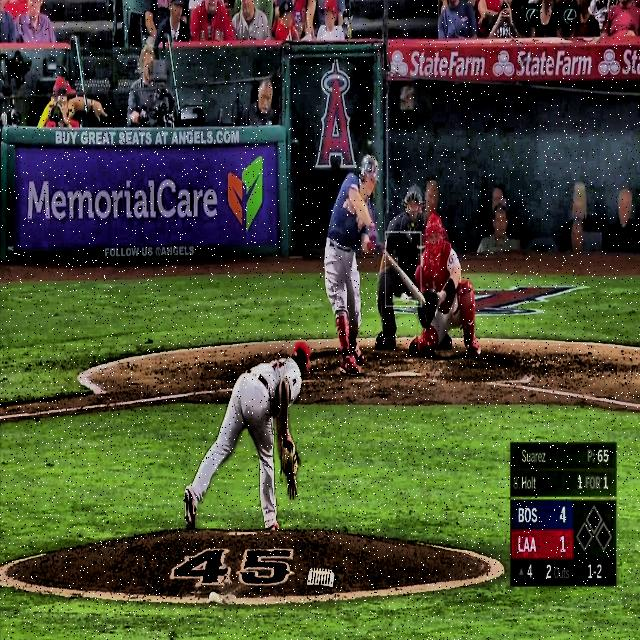baseball: (401, 292, 408, 302)
